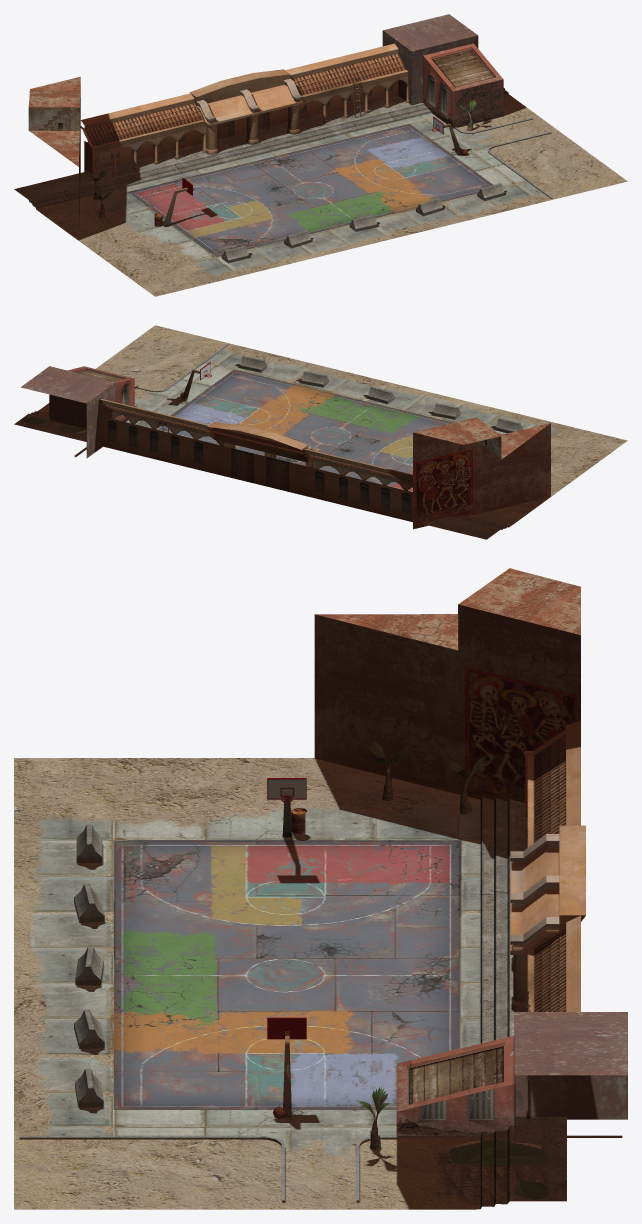
The model's file is court_mexico_mesh.fbx.
The picture shows the model from 3 angles, top to bottom: view 1: azimuth 30°, elevation 25°; view 2: azimuth 150°, elevation 25°; view 3: azimuth 270°, elevation 25°; orthographic projection. The views are drawn at different scales.
Visible parts, largest first — view 1: court_mexico_mesh; view 2: court_mexico_mesh; view 3: court_mexico_mesh.
Part boxes in pixels (x1=…): court_mexico_mesh: x1=14, y1=14, x2=627, y2=296; court_mexico_mesh: x1=14, y1=325, x2=627, y2=539; court_mexico_mesh: x1=14, y1=568, x2=627, y2=1209.
Bounding box in the file's own units: 163 × 32.08 × 93.42.
